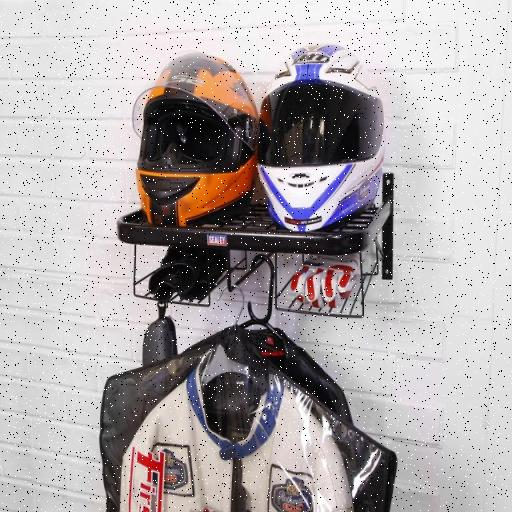Helmet: (259, 45, 383, 231), (133, 52, 257, 225)
